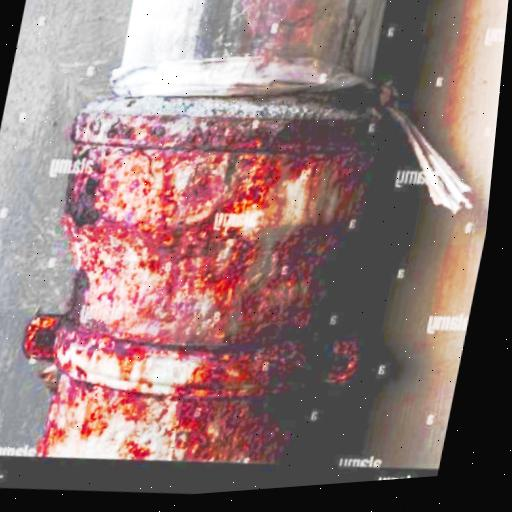corrosion: (0, 78, 409, 492)
